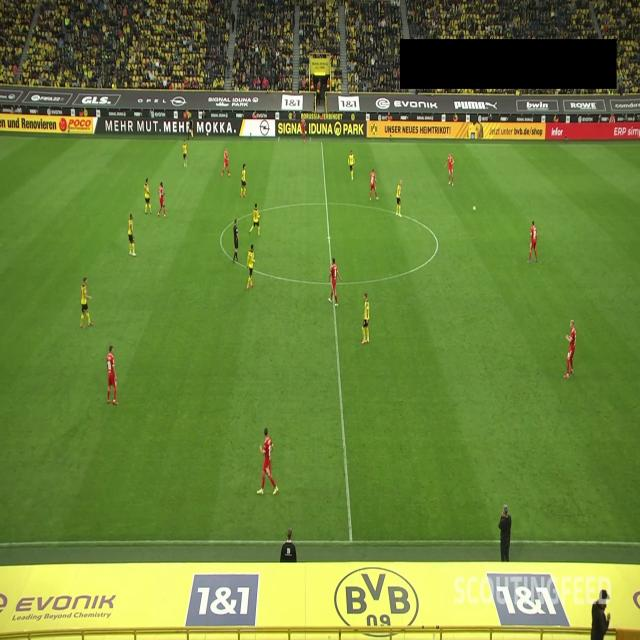ball: (472, 205, 477, 213)
player: (256, 427, 279, 495), (106, 344, 118, 406), (564, 318, 576, 378), (328, 257, 342, 306), (80, 277, 93, 328), (246, 243, 256, 290), (361, 292, 370, 344), (527, 220, 538, 262), (127, 213, 136, 256), (249, 203, 260, 236), (157, 181, 167, 217), (444, 153, 454, 186), (369, 168, 379, 200), (221, 147, 231, 178), (144, 177, 152, 215), (348, 149, 356, 181), (240, 163, 247, 198), (396, 179, 402, 217), (182, 138, 188, 170), (301, 117, 306, 142)
referee: (232, 218, 240, 264), (187, 112, 194, 142)
